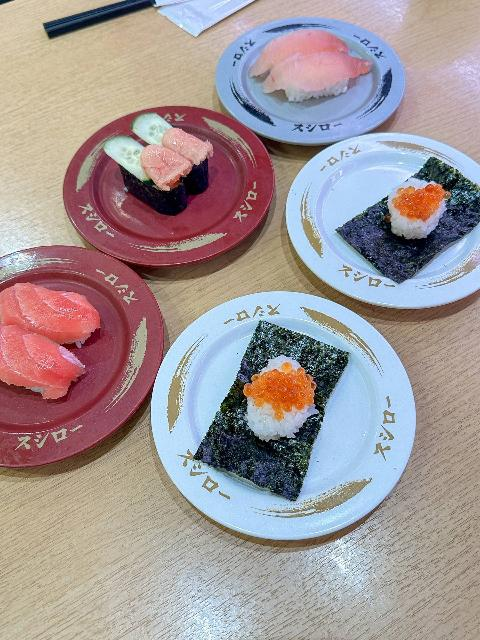janred: (53, 57, 269, 260), (0, 254, 160, 467)
janwhite: (175, 294, 423, 544), (280, 137, 470, 291), (220, 0, 411, 143)
